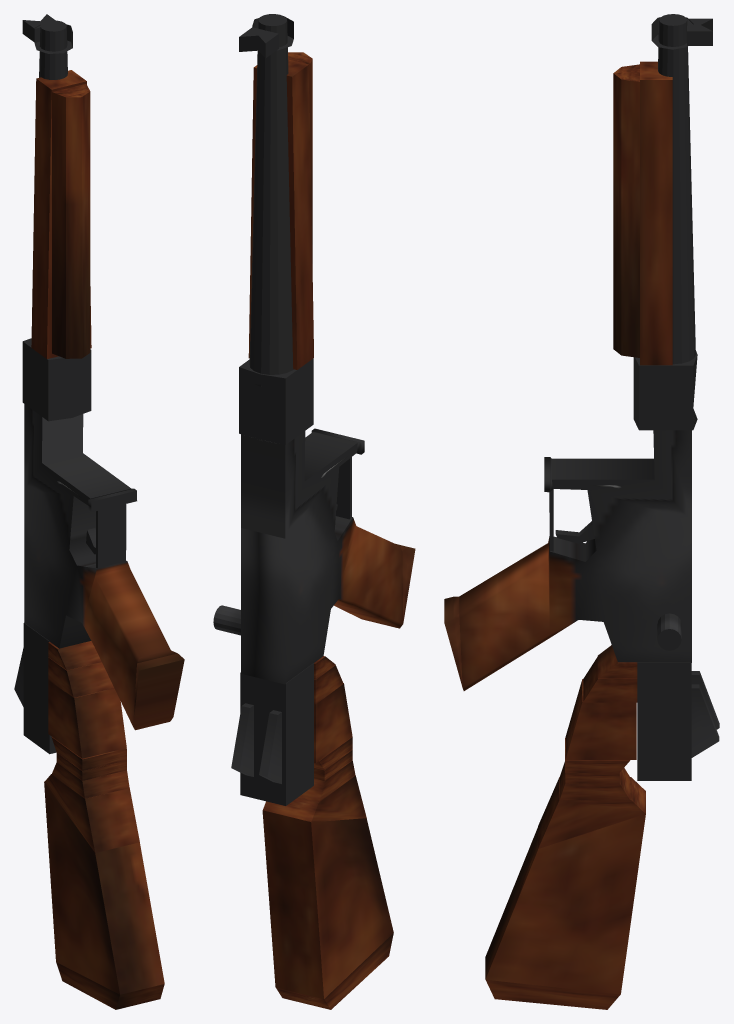
The model's file is Thompson_NoMagazine.fbx.
3 renders of one model, left to right at view 1: azimuth 30°, elevation 25°; view 2: azimuth 150°, elevation 25°; view 3: azimuth 270°, elevation 25°, orthographic. The views are drawn at different scales.
Parts seen in each view (by area): view 1: node_9dd0f6f6_31ed_4a20_9721_c0e673ea2e27_mesh0; view 2: node_9dd0f6f6_31ed_4a20_9721_c0e673ea2e27_mesh0; view 3: node_9dd0f6f6_31ed_4a20_9721_c0e673ea2e27_mesh0.
Part boxes in pixels (bbox=[...]): node_9dd0f6f6_31ed_4a20_9721_c0e673ea2e27_mesh0: bbox=[14, 14, 184, 1009]; node_9dd0f6f6_31ed_4a20_9721_c0e673ea2e27_mesh0: bbox=[213, 14, 415, 1009]; node_9dd0f6f6_31ed_4a20_9721_c0e673ea2e27_mesh0: bbox=[444, 14, 719, 1009].
Bounding box in the file's own units: 0.0331 × 0.3967 × 0.1013.
